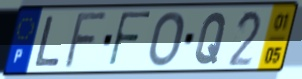2: (225, 9, 265, 68)
F: (61, 10, 111, 71), (106, 10, 154, 70)
L: (32, 14, 63, 68)
O: (147, 10, 186, 69)
Q: (193, 11, 229, 67)
